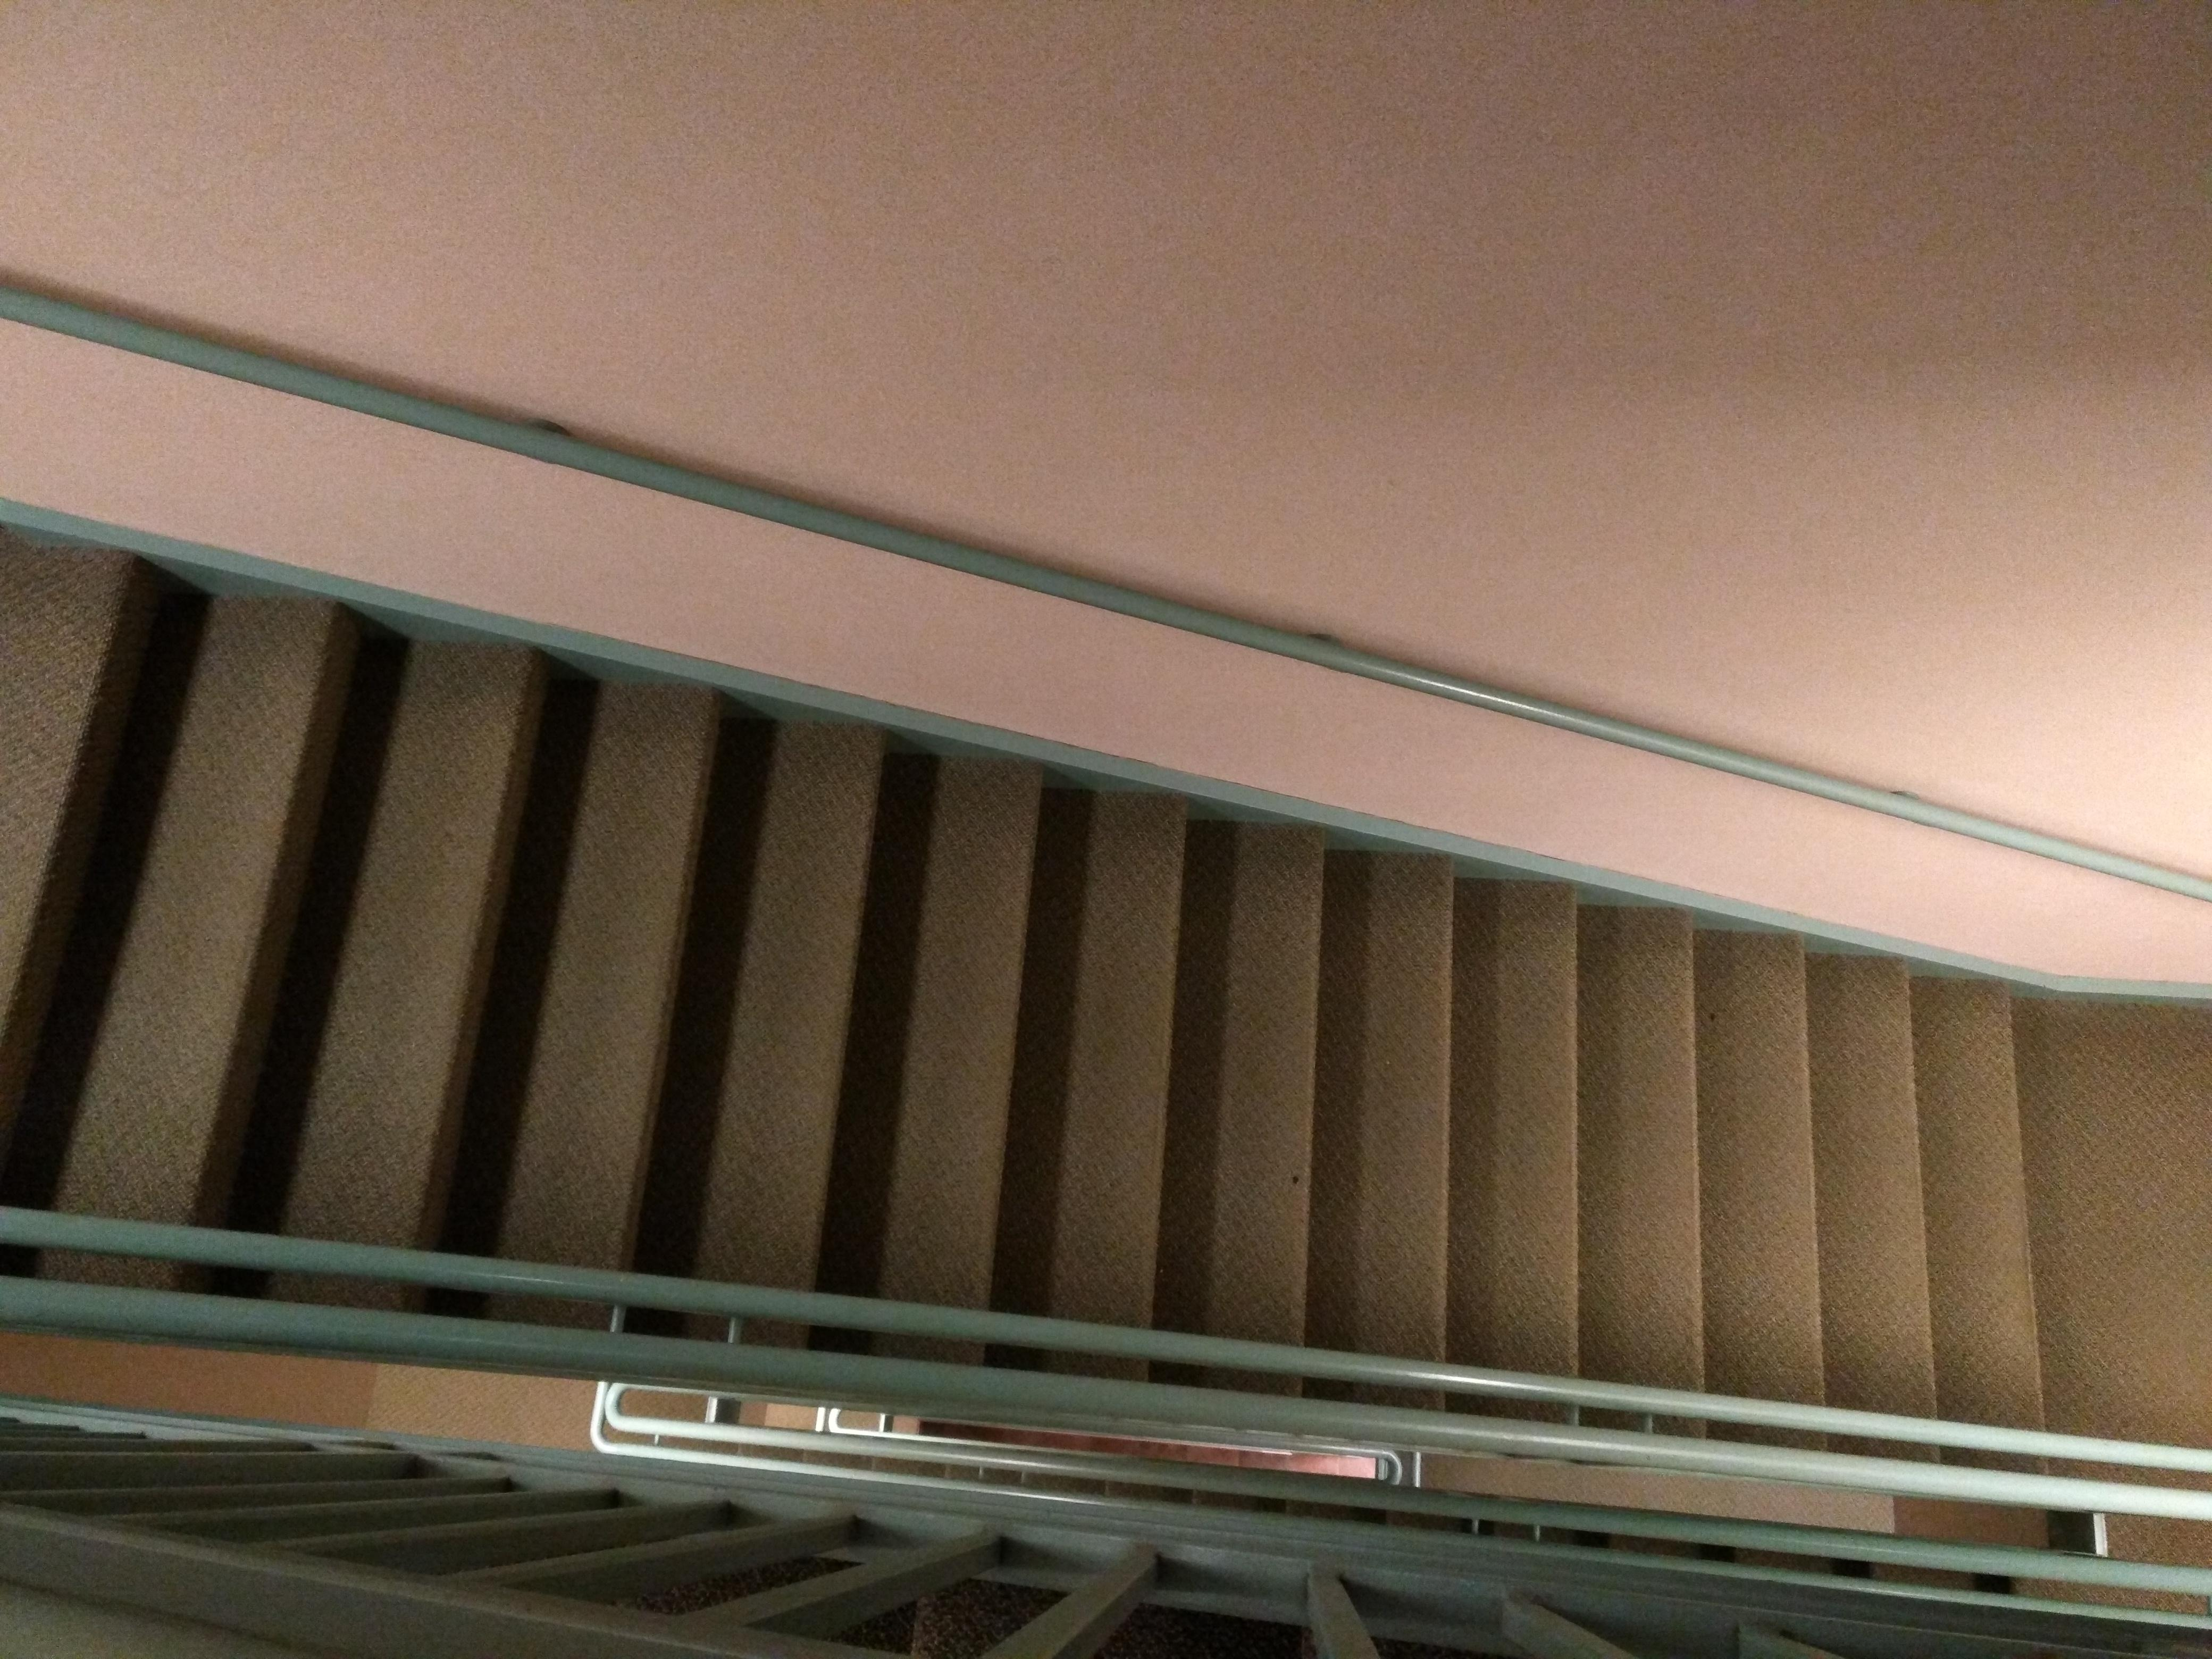stairs_down: (24, 512, 2182, 1450)
